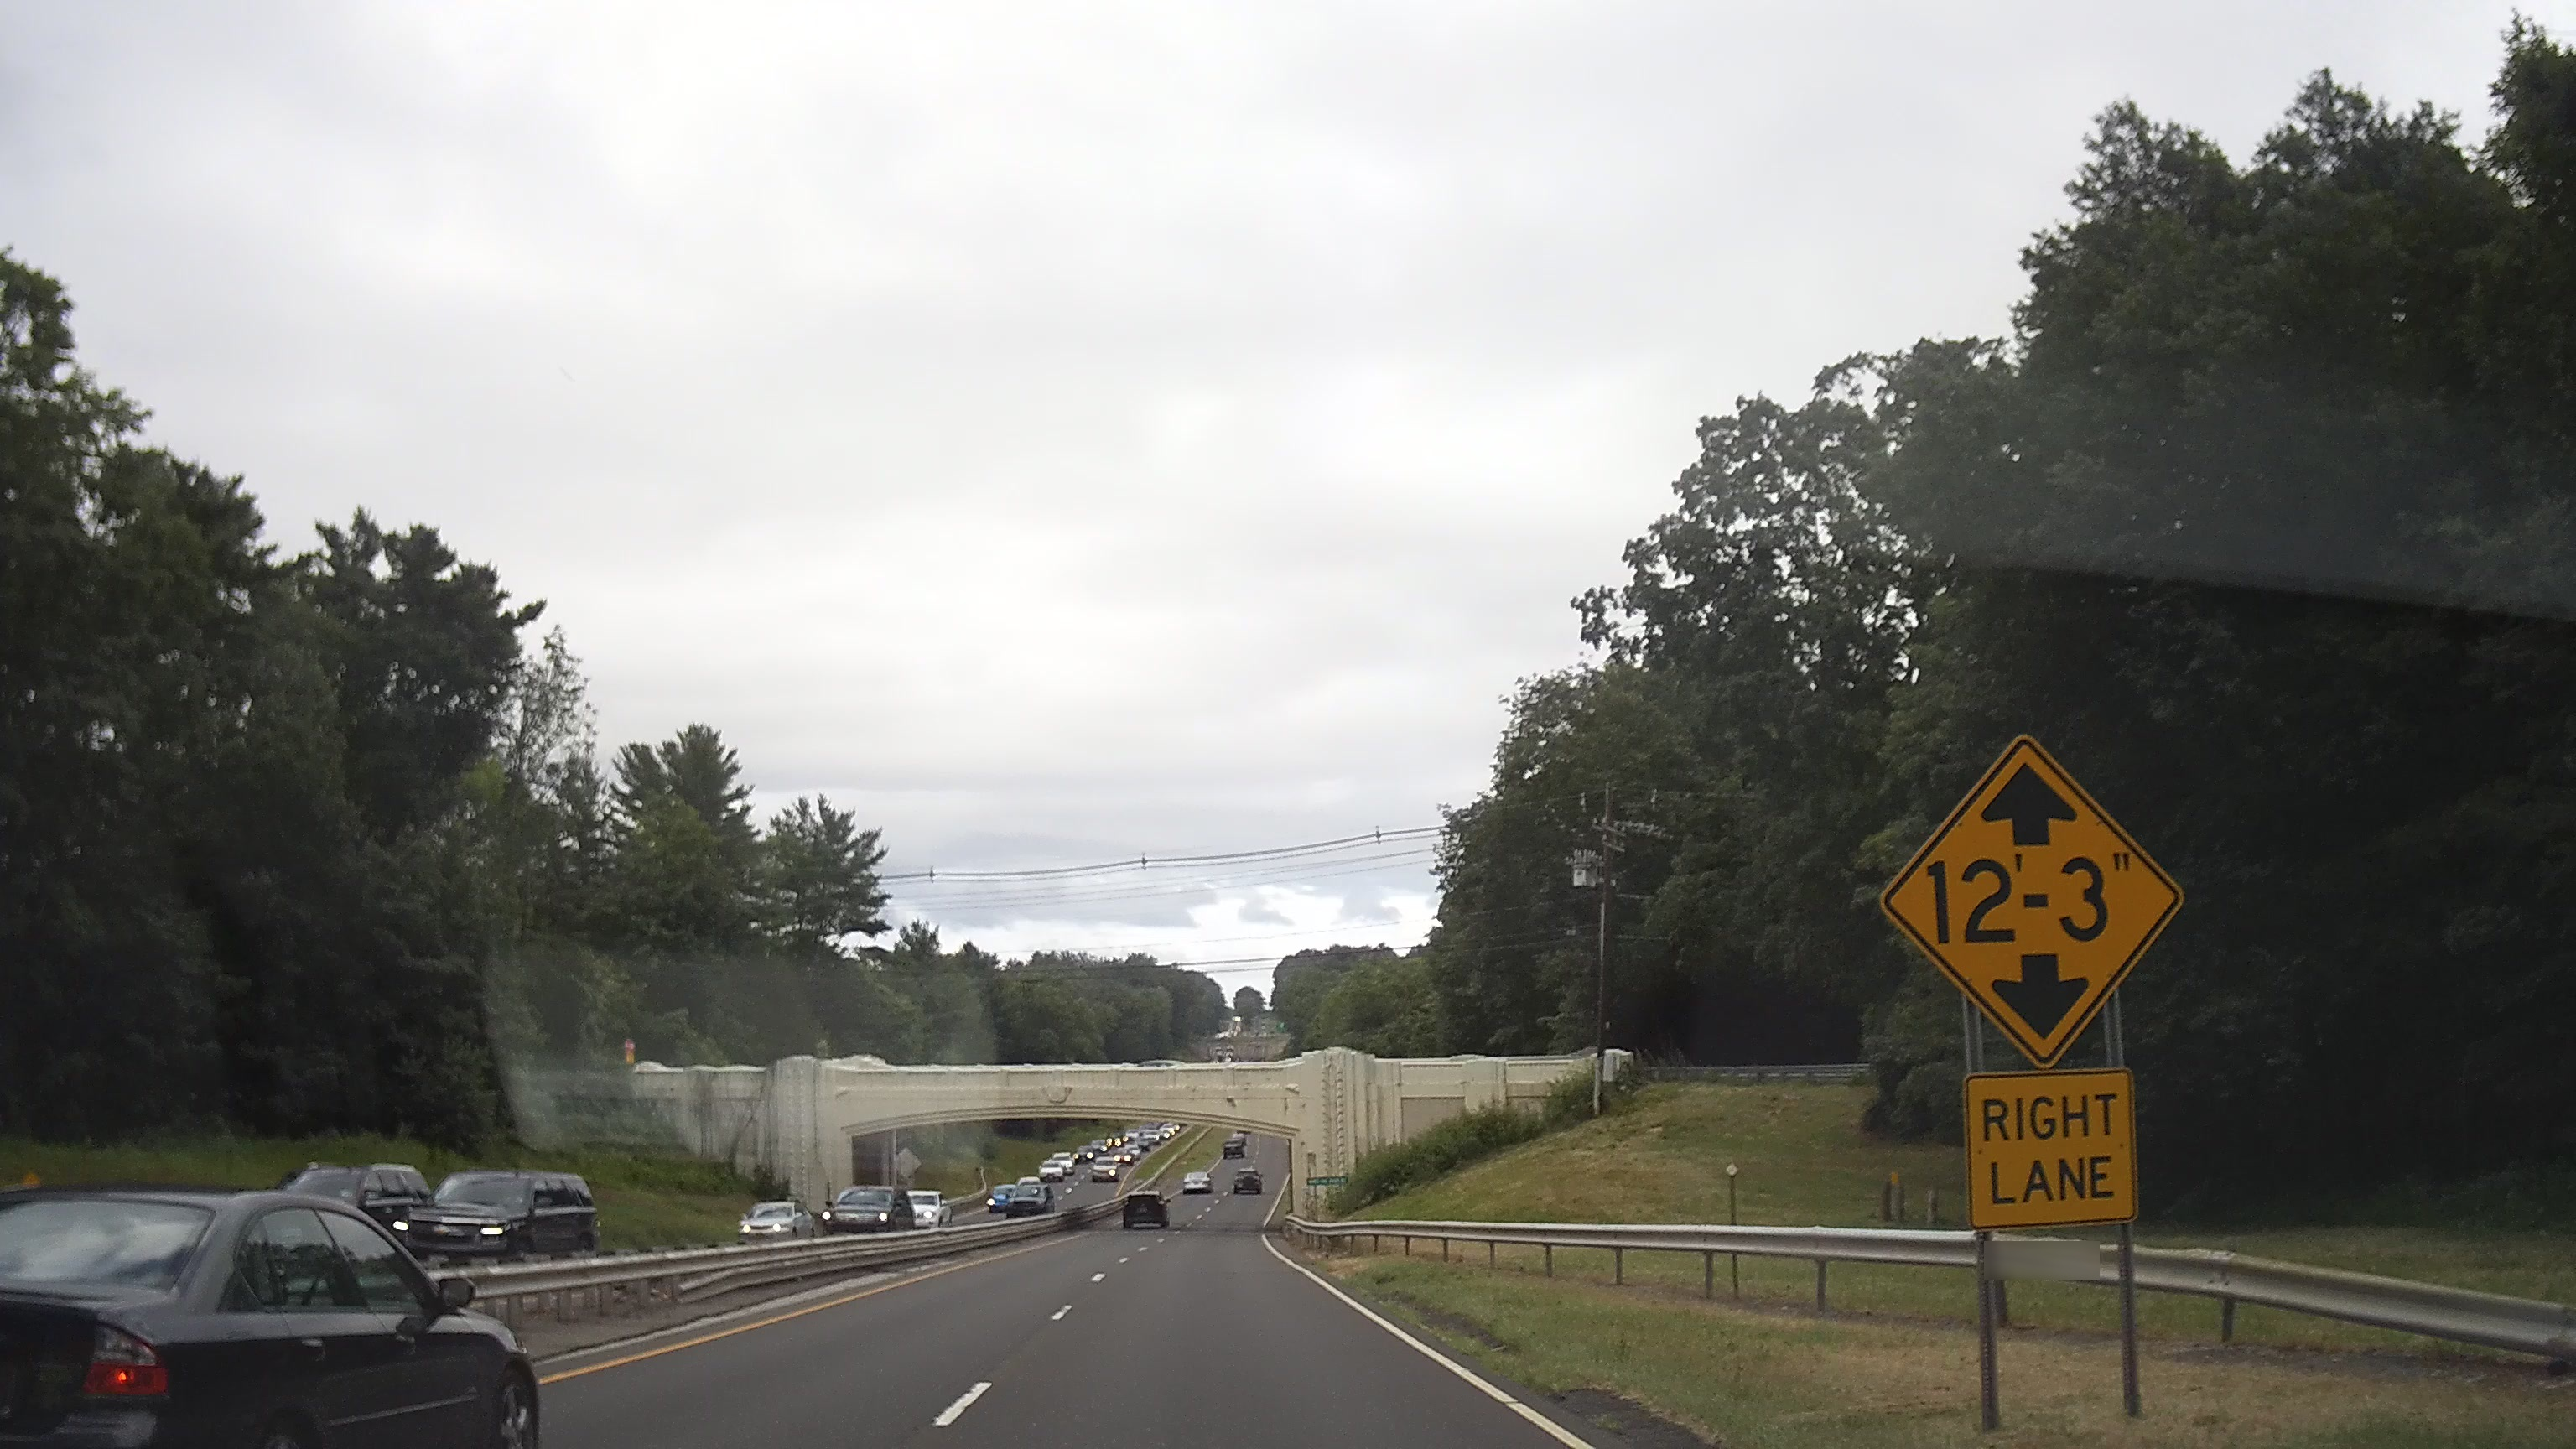low-clearance-sign: (1881, 732, 2187, 1070)
